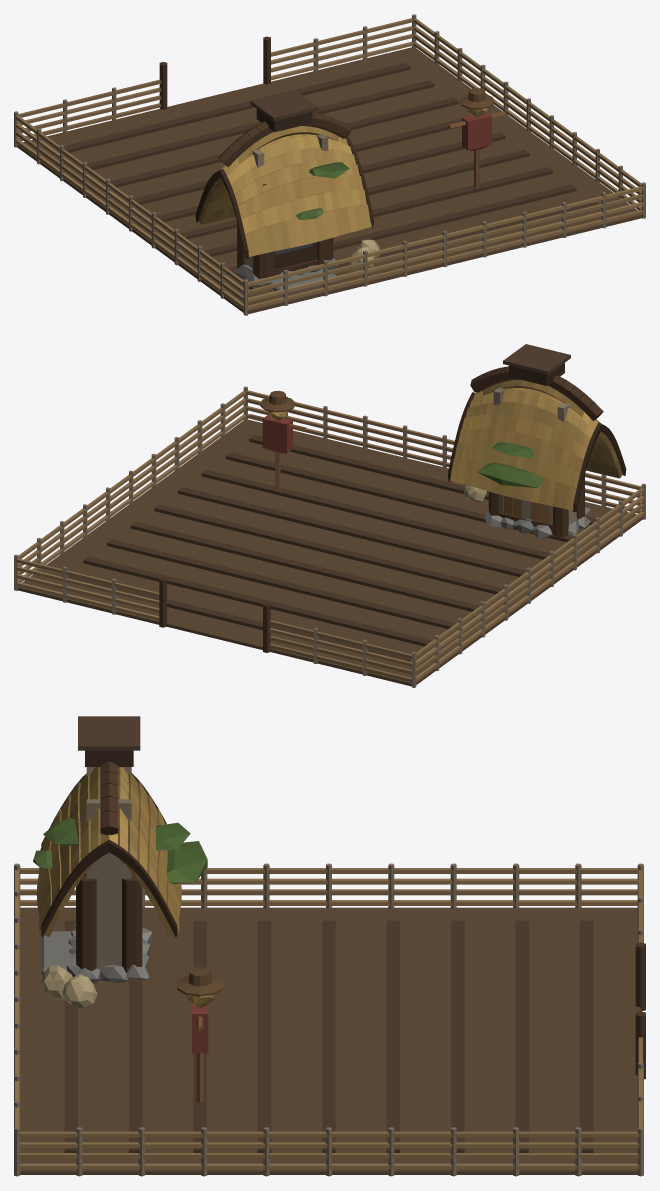
File: Farm.glb
3 views of the same model, one above another, from view 1: azimuth 30°, elevation 25°; view 2: azimuth 150°, elevation 25°; view 3: azimuth 270°, elevation 25° (orthographic). The views are drawn at different scales.
Parts seen in each view (by area): view 1: Mat_Wood_644c2e, Mat_Thatch_a68853, Mat_Thatch_856b3c, Mat_Wood_7f6f57, Mat_Wood_442f20, Mat_Cloth_783c32, Mat_Stone_7b7973; view 2: Mat_Wood_644c2e, Mat_Thatch_a68853, Mat_Thatch_856b3c, Mat_Wood_7f6f57, Mat_Wood_442f20, Mat_Leaves_495f2f, Mat_Cloth_783c32, Mat_Stone_7b7973; view 3: Mat_Wood_644c2e, Mat_Thatch_a68853, Mat_Thatch_856b3c, Mat_Wood_7f6f57, Mat_Wood_442f20, Mat_Stone_7b7973, Mat_Leaves_495f2f, Mat_Leaves_42582b, Mat_Stone_6e6c66, Mat_Cloth_783c32, Mat_Leaves_4e6633.
Boxes of the visible parts, x1,y1,x2,y2 form: Mat_Wood_644c2e: [17, 47, 642, 314]; Mat_Thatch_a68853: [15, 26, 643, 308]; Mat_Thatch_856b3c: [15, 18, 643, 309]; Mat_Wood_7f6f57: [14, 14, 645, 315]; Mat_Wood_442f20: [159, 36, 373, 279]; Mat_Cloth_783c32: [462, 111, 491, 150]; Mat_Stone_7b7973: [234, 258, 337, 294]; Mat_Wood_644c2e: [17, 344, 642, 686]; Mat_Thatch_a68853: [16, 388, 644, 681]; Mat_Thatch_856b3c: [16, 380, 644, 682]; Mat_Wood_7f6f57: [14, 380, 645, 687]; Mat_Wood_442f20: [159, 363, 626, 652]; Mat_Leaves_495f2f: [477, 442, 544, 487]; Mat_Cloth_783c32: [262, 414, 292, 453]; Mat_Stone_7b7973: [484, 507, 589, 538]; Mat_Wood_644c2e: [20, 716, 640, 1174]; Mat_Thatch_a68853: [15, 767, 639, 1169]; Mat_Thatch_856b3c: [18, 767, 642, 1158]; Mat_Wood_7f6f57: [14, 770, 643, 1176]; Mat_Wood_442f20: [41, 750, 645, 1079]; Mat_Stone_7b7973: [41, 924, 152, 982]; Mat_Leaves_495f2f: [33, 822, 207, 883]; Mat_Leaves_42582b: [43, 818, 176, 873]; Mat_Stone_6e6c66: [41, 923, 152, 983]; Mat_Cloth_783c32: [192, 1003, 208, 1053]; Mat_Leaves_4e6633: [34, 818, 207, 882].
Bounding box in the file's own units: 23.22 × 9.5 × 23.3.
Materials: 1 (1 with a texture image).
